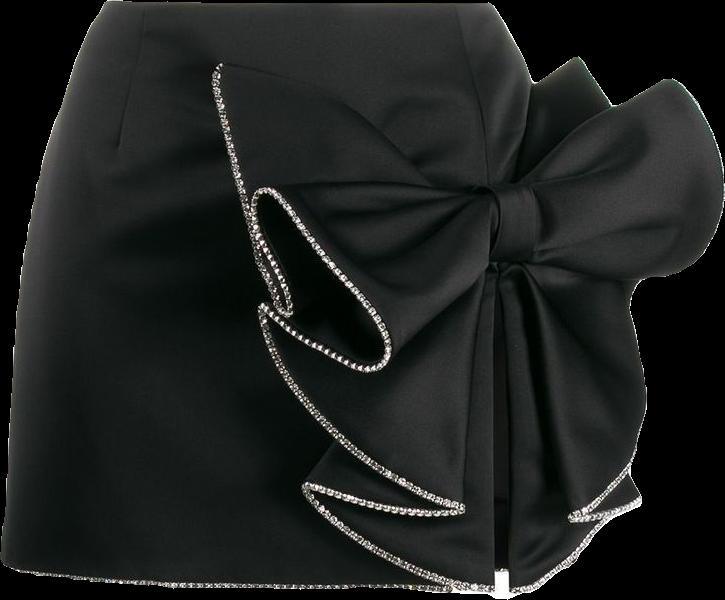Hemline: (0, 67, 494, 597), (507, 70, 724, 599)
Waistline: (106, 0, 491, 10)
